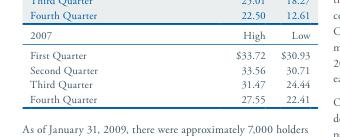table: (29, 28, 309, 105)
table column: (29, 28, 166, 105), (166, 28, 272, 105), (272, 28, 309, 105)
table column header: (29, 28, 309, 45)
table row: (29, 28, 309, 45), (29, 45, 309, 62), (29, 62, 309, 77), (29, 77, 309, 91), (29, 91, 309, 105)
